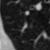node: (33, 1, 43, 12), (24, 10, 30, 16)
